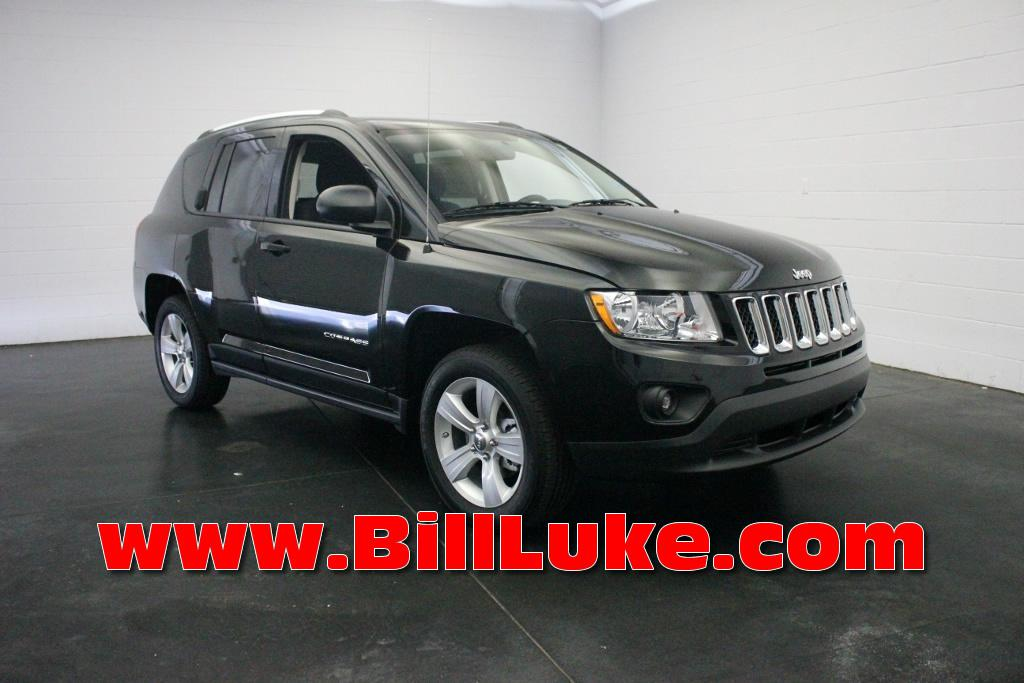Car: (102, 81, 885, 531)
